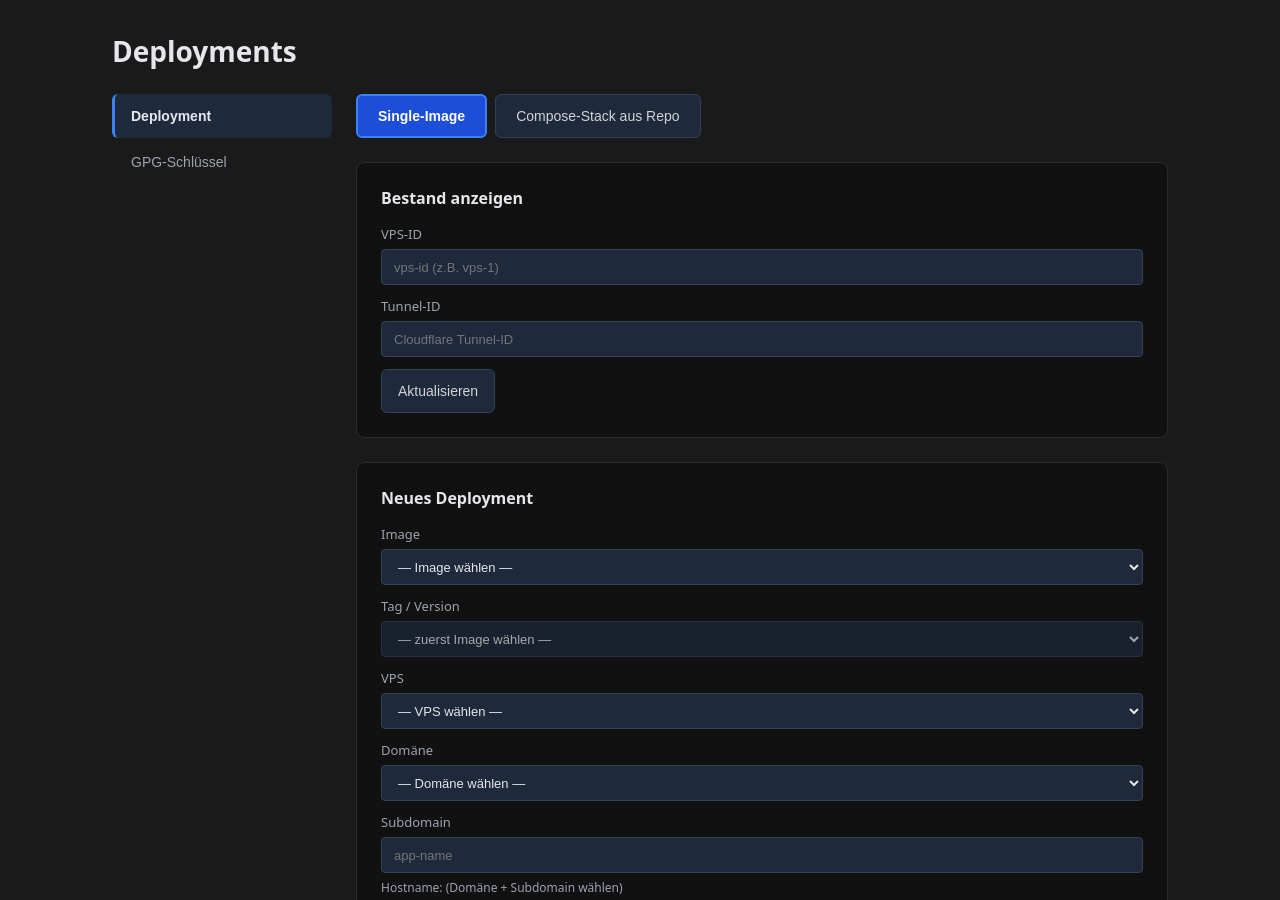
Test case: DeploymentsView — GPG-Bitwarden-Item-Default (deploy-bitwarden-gpg-injection.md AC16) › AC16: leitet gpgBwItem-Default env.gpg-passphrase-<slug> aus gewähltem Image ab
Select "brew-assistent" in the dropdown with id "deploy-image-select" at x=762, y=567, box x1=381 y1=549 x2=1143 y2=585
(page scrolled)
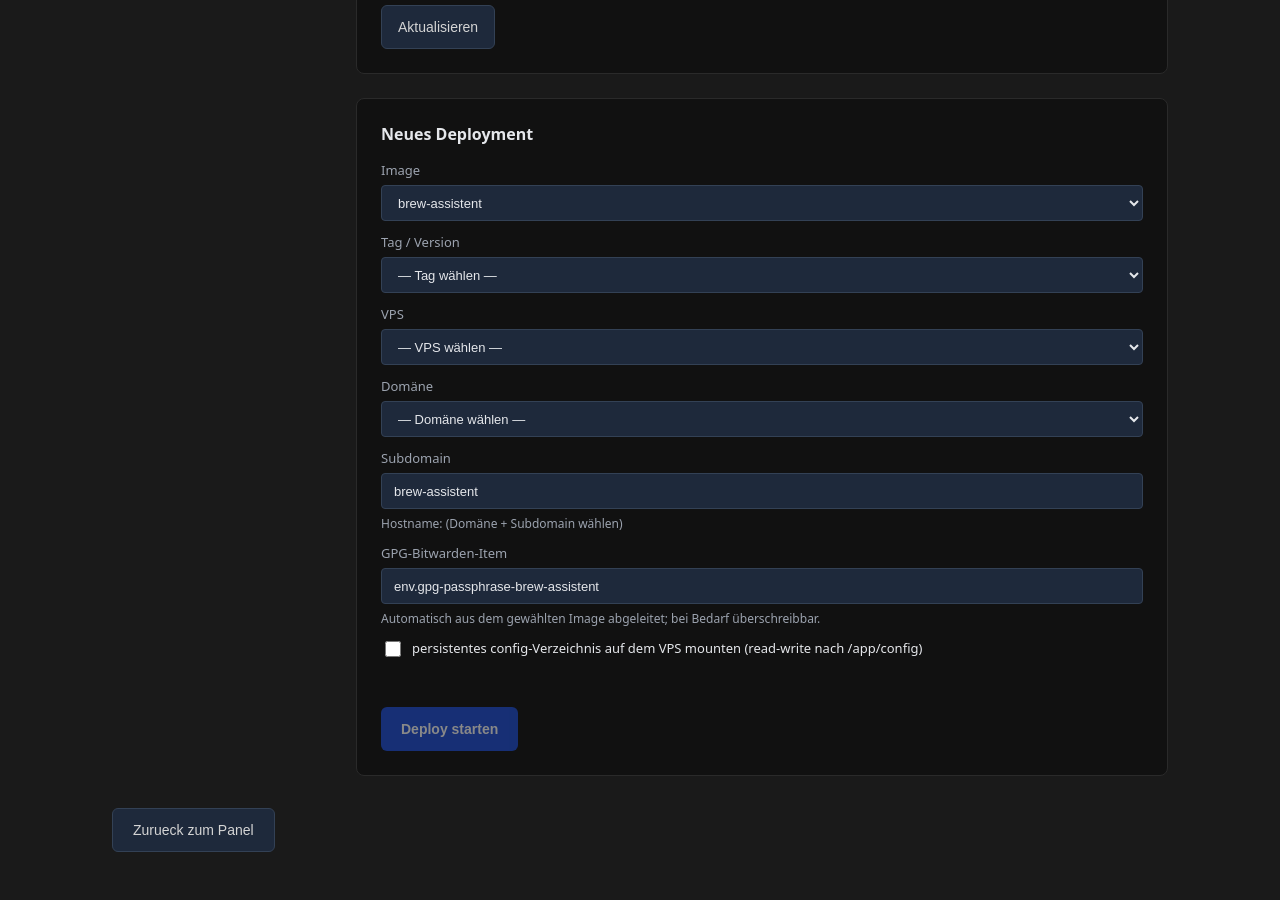
Expected: the field with id "deploy-gpg-bw-item" holds "env.gpg-passphrase-brew-assistent", x1=381 y1=568 x2=1143 y2=604
